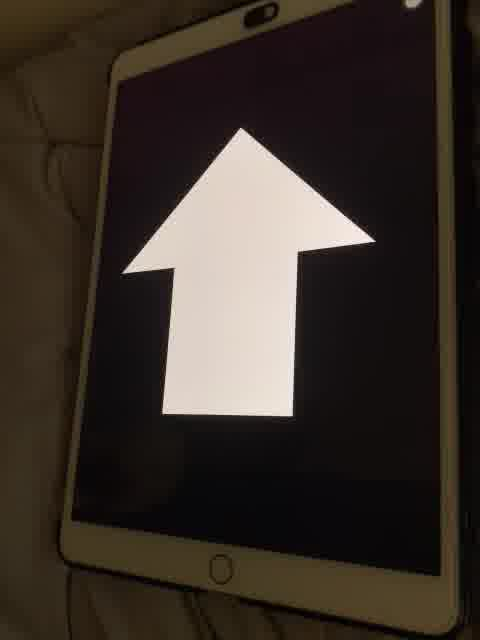up: (120, 125, 374, 422)
